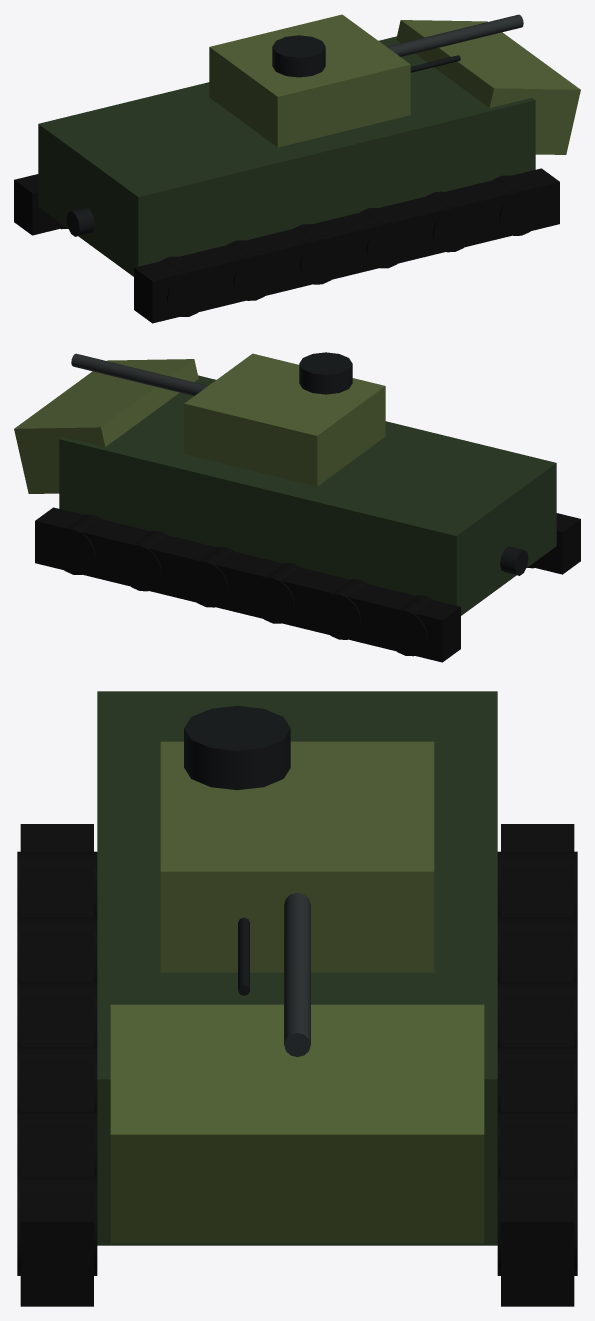
File: pt76-amphibious-tank.glb
3 renders of one model, top to bottom at view 1: azimuth 30°, elevation 25°; view 2: azimuth 150°, elevation 25°; view 3: azimuth 270°, elevation 25°, orthographic. The views are drawn at different scales.
Visible parts, largest first — view 1: hull, turretBody, trackLeft, frontGlacis, cupola, roadWheelLeft2, roadWheelLeft4, roadWheelLeft6, roadWheelLeft5, roadWheelLeft1, roadWheelLeft3, mainGun (+2 smaller); view 2: hull, turretBody, trackRight, frontGlacis, cupola, roadWheelRight6, roadWheelRight4, roadWheelRight2, roadWheelRight1, roadWheelRight3, roadWheelRight5, mainGun (+2 smaller); view 3: frontGlacis, hull, turretBody, trackLeft, trackRight, cupola, mainGun, roadWheelLeft6, roadWheelRight6, roadWheelLeft1, roadWheelRight1, roadWheelLeft3 (+8 smaller).
Part boxes in pixels (x1,y1,x2,y2): hull: (38, 36, 535, 276); turretBody: (209, 14, 410, 147); trackLeft: (134, 168, 559, 323); frontGlacis: (396, 20, 580, 154); cupola: (272, 35, 325, 77); roadWheelLeft2: (227, 240, 277, 300); roadWheelLeft4: (360, 208, 410, 268); roadWheelLeft6: (493, 175, 543, 235); roadWheelLeft5: (426, 191, 476, 252); roadWheelLeft1: (161, 256, 210, 316); roadWheelLeft3: (293, 224, 343, 284); mainGun: (387, 14, 523, 56); hull: (59, 375, 556, 615); turretBody: (184, 353, 385, 486); trackRight: (35, 507, 460, 662); frontGlacis: (14, 359, 198, 493); cupola: (299, 352, 352, 394); roadWheelRight6: (51, 514, 101, 574); roadWheelRight4: (184, 547, 234, 607); roadWheelRight2: (317, 579, 367, 639); roadWheelRight1: (384, 595, 433, 656); roadWheelRight3: (251, 563, 301, 623); roadWheelRight5: (118, 530, 167, 591); mainGun: (71, 353, 207, 395); frontGlacis: (110, 1004, 484, 1243); hull: (97, 691, 497, 1245); turretBody: (160, 741, 434, 972); trackLeft: (20, 824, 93, 1306); trackRight: (501, 824, 574, 1306); cupola: (184, 705, 290, 790); mainGun: (284, 892, 310, 1056); roadWheelLeft6: (17, 1176, 97, 1275); roadWheelRight6: (497, 1176, 577, 1275); roadWheelLeft1: (17, 851, 97, 916); roadWheelRight1: (497, 851, 577, 916); roadWheelLeft3: (17, 981, 97, 1046).
Size of the model in its own units: 3.19 by 1.26 by 1.68.
